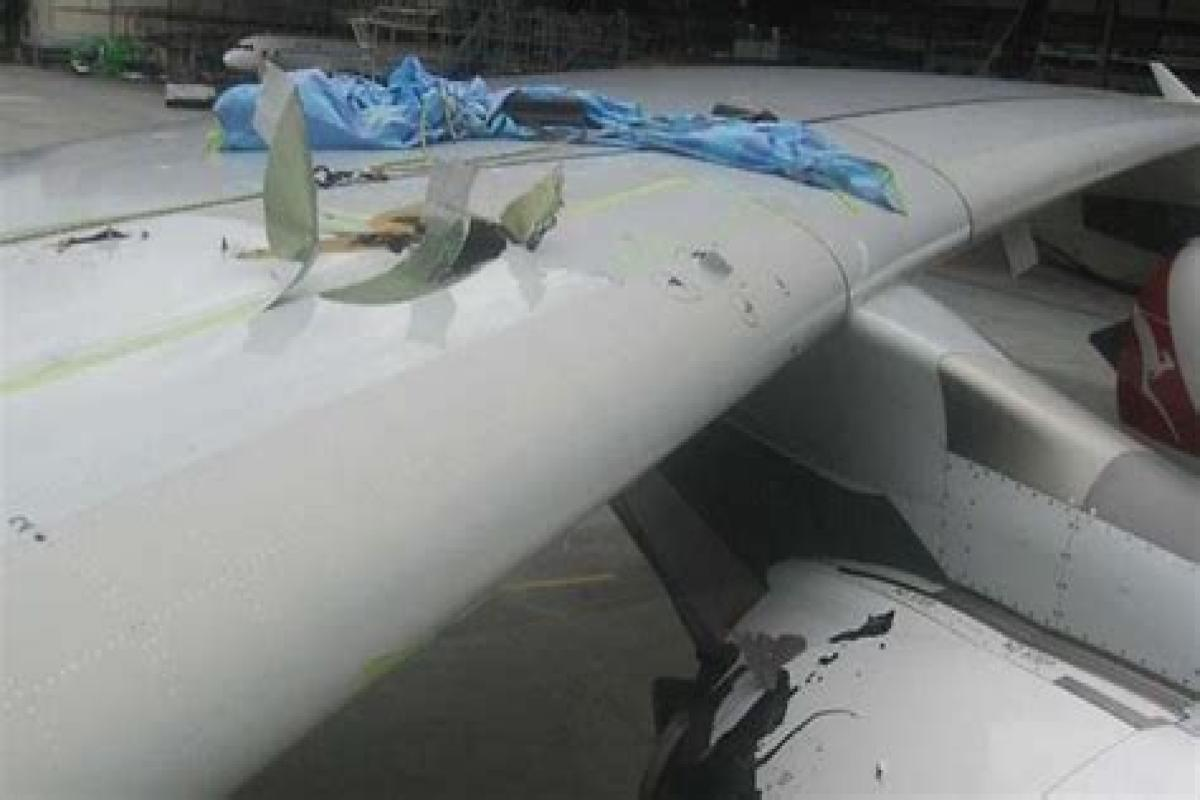Fuselage_damage: (226, 86, 583, 345)
